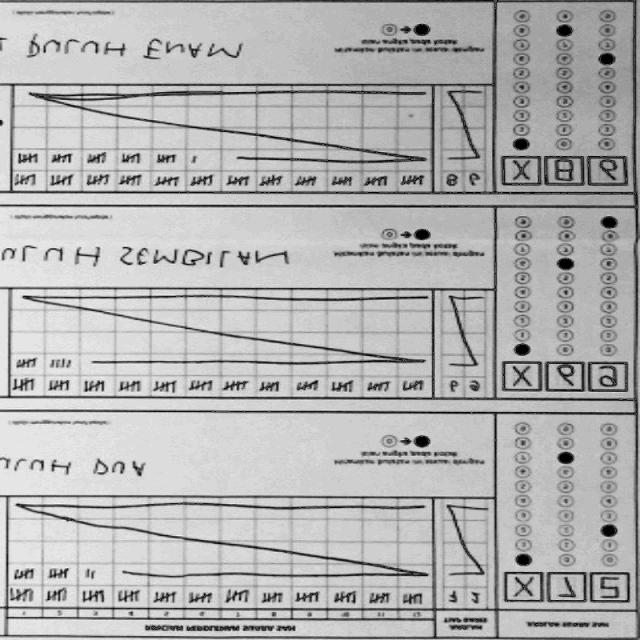Suara: (498, 156, 624, 190), (498, 575, 630, 607), (500, 366, 630, 396)
